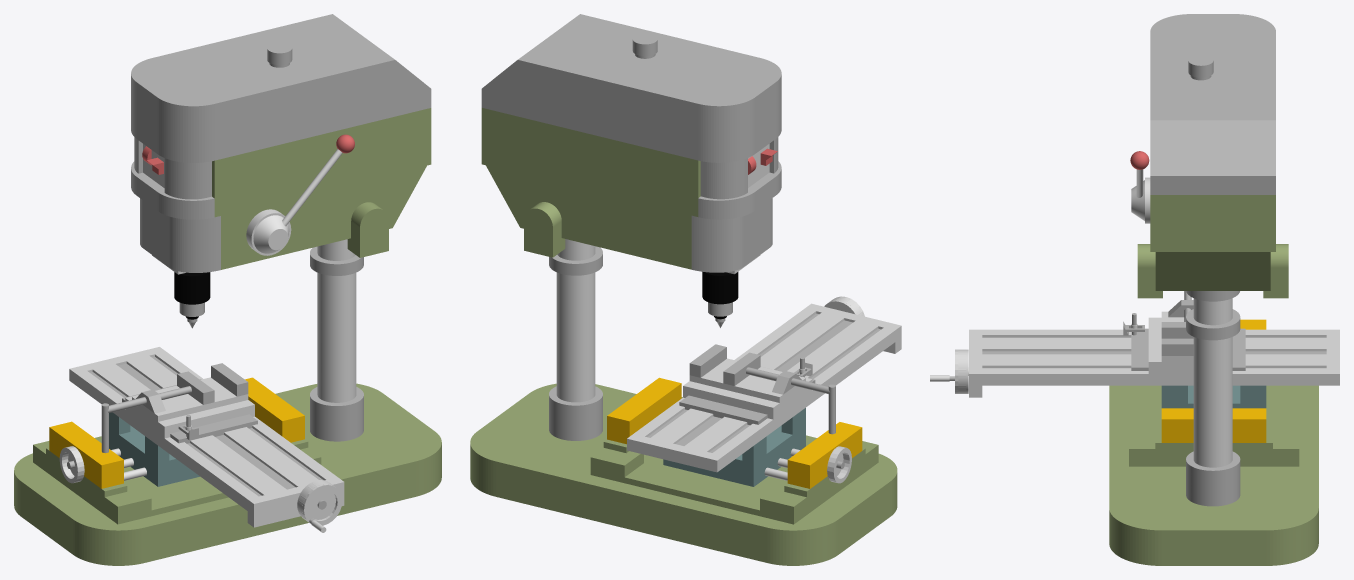
The model's file is machine.glb.
The picture shows the model from 3 angles, left to right: view 1: azimuth 30°, elevation 25°; view 2: azimuth 150°, elevation 25°; view 3: azimuth 270°, elevation 25°; orthographic projection.
Parts seen in each view (by area): view 1: box (×36), quarterCylinder (×9), cylinder (×9), wedge (×2), annulus (×2), truncatedCone; view 2: box (×39), quarterCylinder (×9), cylinder (×5), wedge (×2), annulus; view 3: box (×35), wedge (×2), cylinder (×4), quarterCylinder (×4).
Part boxes in pixels (x1,y1,x2,y2): box (×36): (21, 14, 434, 562); quarterCylinder (×9): (14, 58, 441, 565); cylinder (×9): (107, 42, 363, 521); wedge (×2): (392, 60, 430, 227); annulus (×2): (59, 446, 342, 525); truncatedCone: (253, 215, 289, 253); box (×39): (477, 14, 901, 562); quarterCylinder (×9): (470, 58, 897, 565); cylinder (×5): (549, 239, 830, 440); wedge (×2): (482, 60, 520, 227); annulus: (827, 446, 851, 483); box (×35): (969, 14, 1339, 565); wedge (×2): (1150, 120, 1275, 290); cylinder (×4): (1186, 55, 1240, 506); quarterCylinder (×4): (1109, 14, 1318, 565).
Size of the model in its own units: 32 by 38 by 31.29.
